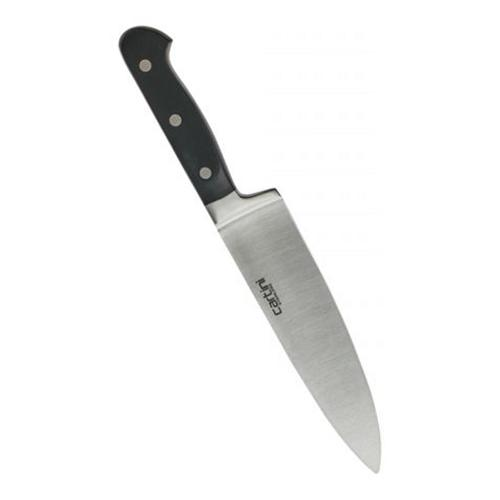knife: (117, 25, 383, 472)
